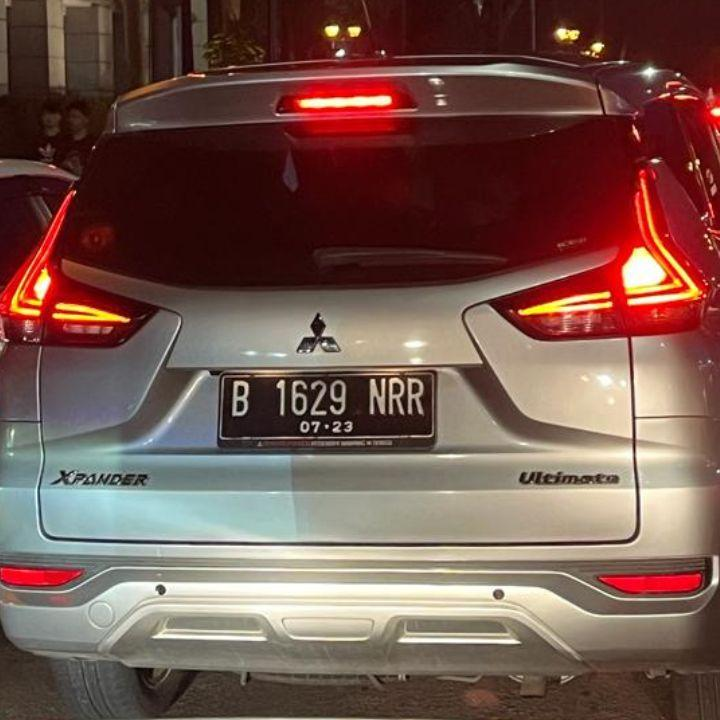plat: (218, 371, 436, 447)
